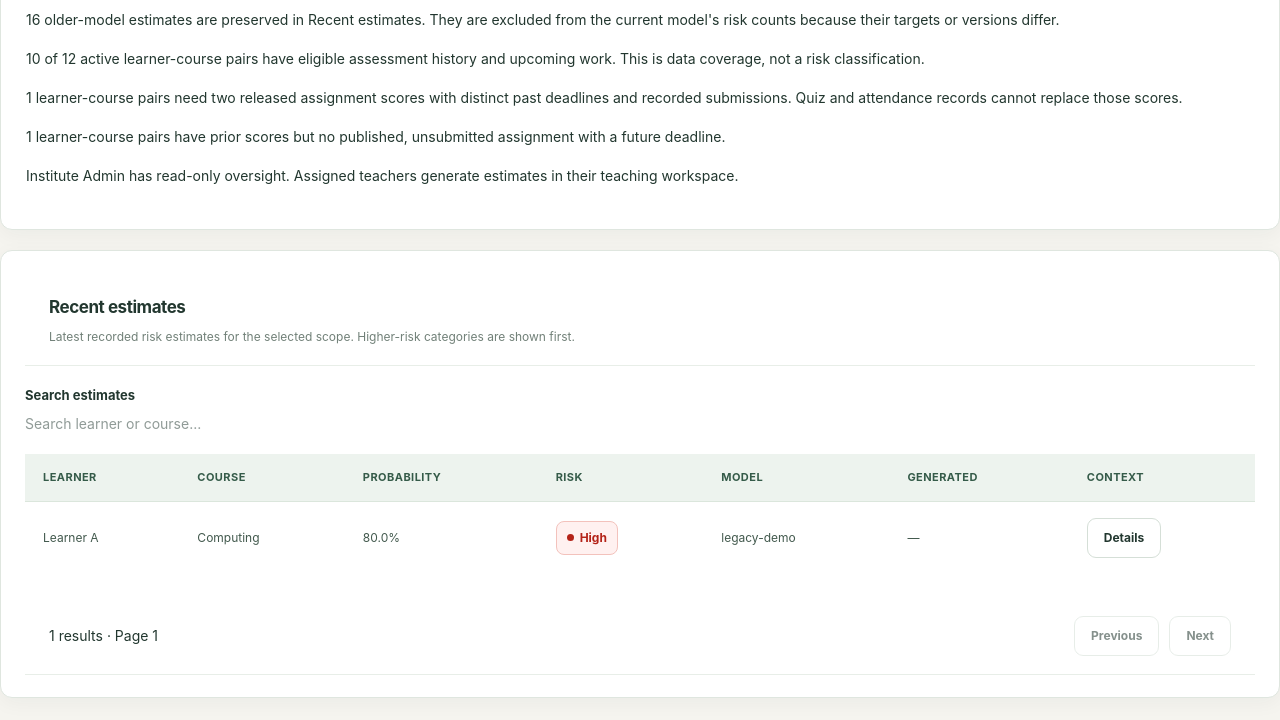
preserves searchable older-model history and labels an empty search accurately
This screenshot has width=1280, height=720.
(page scrolled)
Check: the text "legacy-demo" is shown, box [703,501,889,574]
Check: the text "80.0%" is shown, box [345,501,538,574]
Type "nobody" into the search field labelled "Search estimates" at (134, 424), box [25,413,243,434]
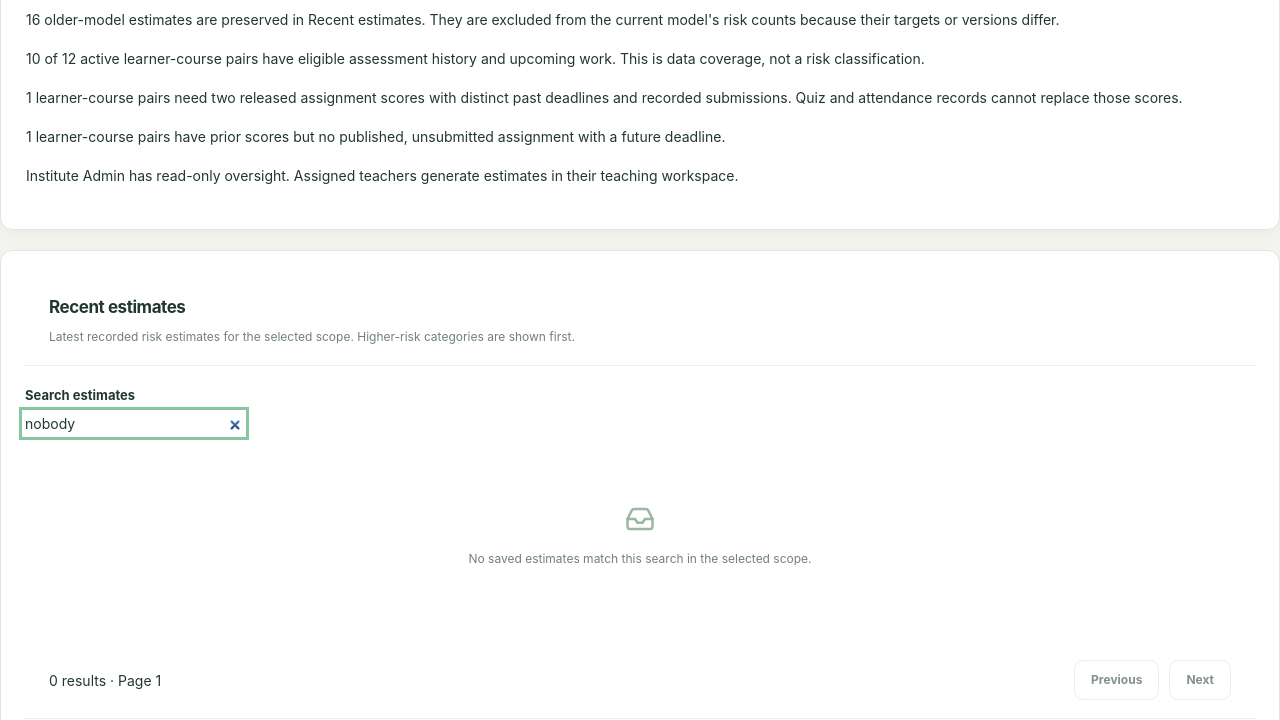
Check: the text "No saved estimates match this search in the selected scope." is shown, box [468,551,812,566]
